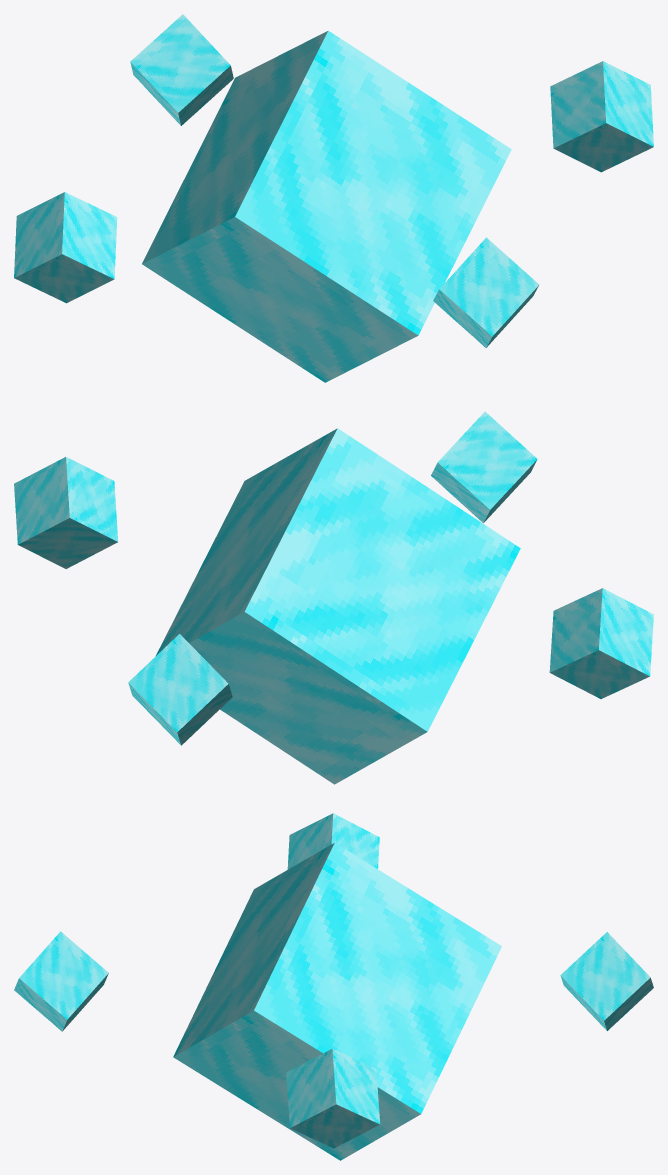
File: altarRelay.obj
3 views of the same model, one above another, from view 1: azimuth 30°, elevation 25°; view 2: azimuth 150°, elevation 25°; view 3: azimuth 270°, elevation 25° (orthographic). The views are drawn at different scales.
Parts seen in each view (by area): view 1: Cube, Cube.002, Cube.001, Cube.004, Cube.003; view 2: Cube, Cube.001, Cube.002, Cube.004, Cube.003; view 3: Cube, Cube.001, Cube.003, Cube.004, Cube.002.
Part boxes in pixels (x1,y1,x2,y2): Cube: (142,30,511,382); Cube.002: (14,192,117,303); Cube.001: (550,61,653,172); Cube.004: (130,14,233,125); Cube.003: (433,237,539,347); Cube: (155,428,520,784); Cube.001: (14,457,118,568); Cube.002: (549,588,653,698); Cube.004: (128,634,232,745); Cube.003: (431,411,537,523); Cube: (173,842,501,1160); Cube.001: (286,1048,380,1148); Cube.003: (14,931,108,1031); Cube.004: (560,932,653,1030); Cube.002: (287,813,379,869).
Size of the model in its own units: 0.9332 by 0.4965 by 0.9051.
